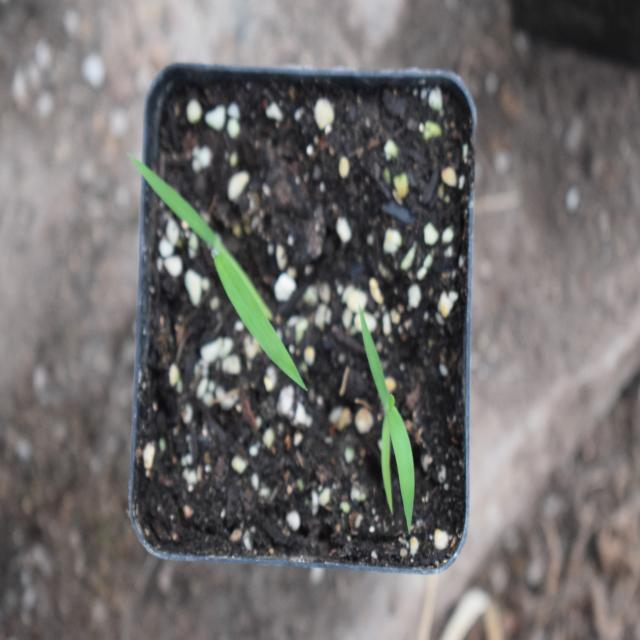crabgrass: (138, 158, 298, 388), (355, 301, 434, 528)
